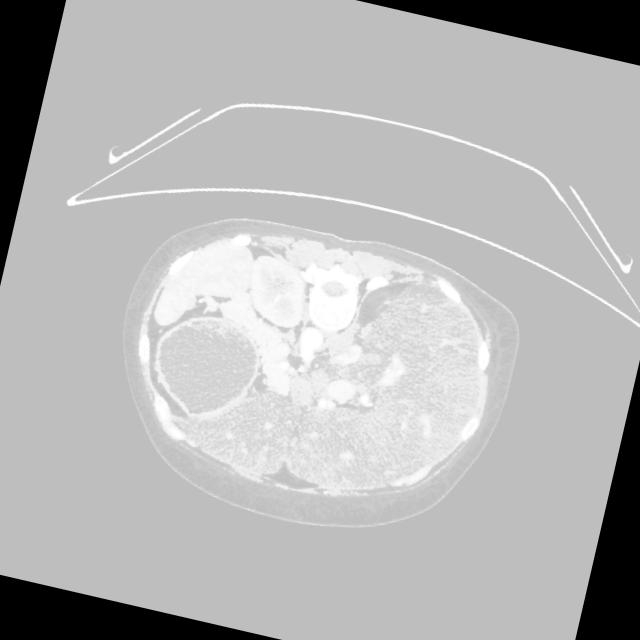NORMAL: (88, 195, 538, 587)
